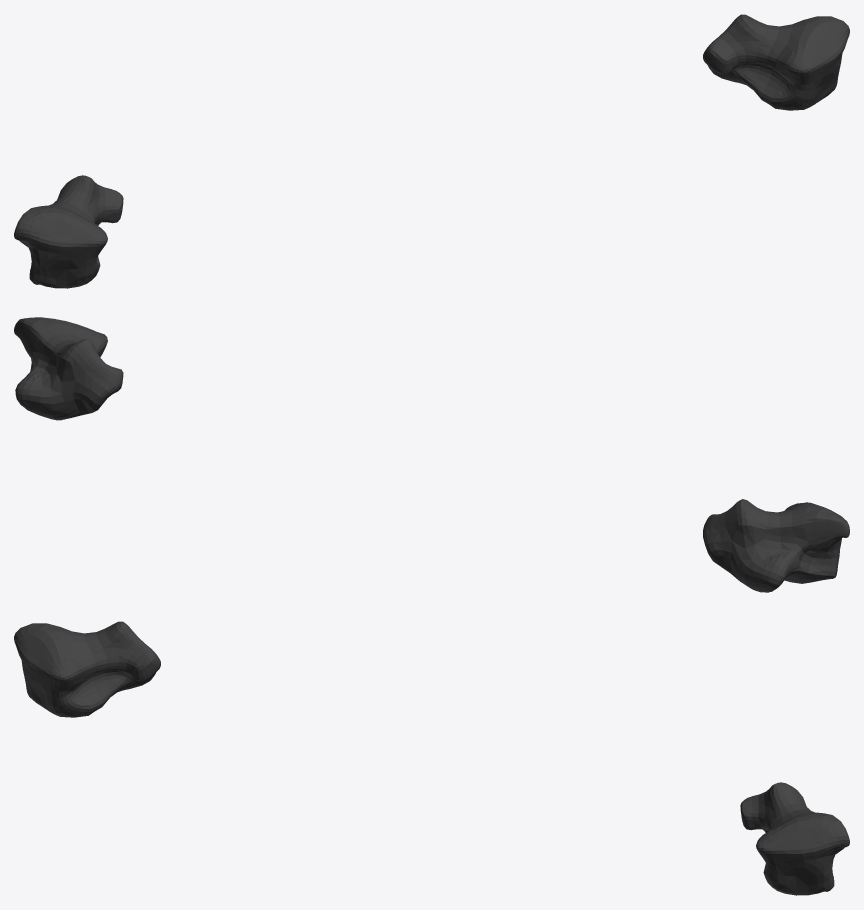
The model's file is b_carpals_intermediate_L_LO.glb.
3 renders of one model, top to bottom at view 1: azimuth 30°, elevation 25°; view 2: azimuth 150°, elevation 25°; view 3: azimuth 330°, elevation 25°, orthographic.
Visible parts, largest first — view 1: b_carpals_intermediate_L_LO; view 2: b_carpals_intermediate_L_LO; view 3: b_carpals_intermediate_L_LO.
Boxes of the visible parts, box(x1,y1,x2,y2) form: b_carpals_intermediate_L_LO: box(14, 14, 849, 288); b_carpals_intermediate_L_LO: box(14, 317, 849, 592); b_carpals_intermediate_L_LO: box(14, 621, 849, 895).
Bounding box in the file's own units: 0.00321 × 0.000315 × 0.000395.
Materials: 1 (1 with a texture image).
